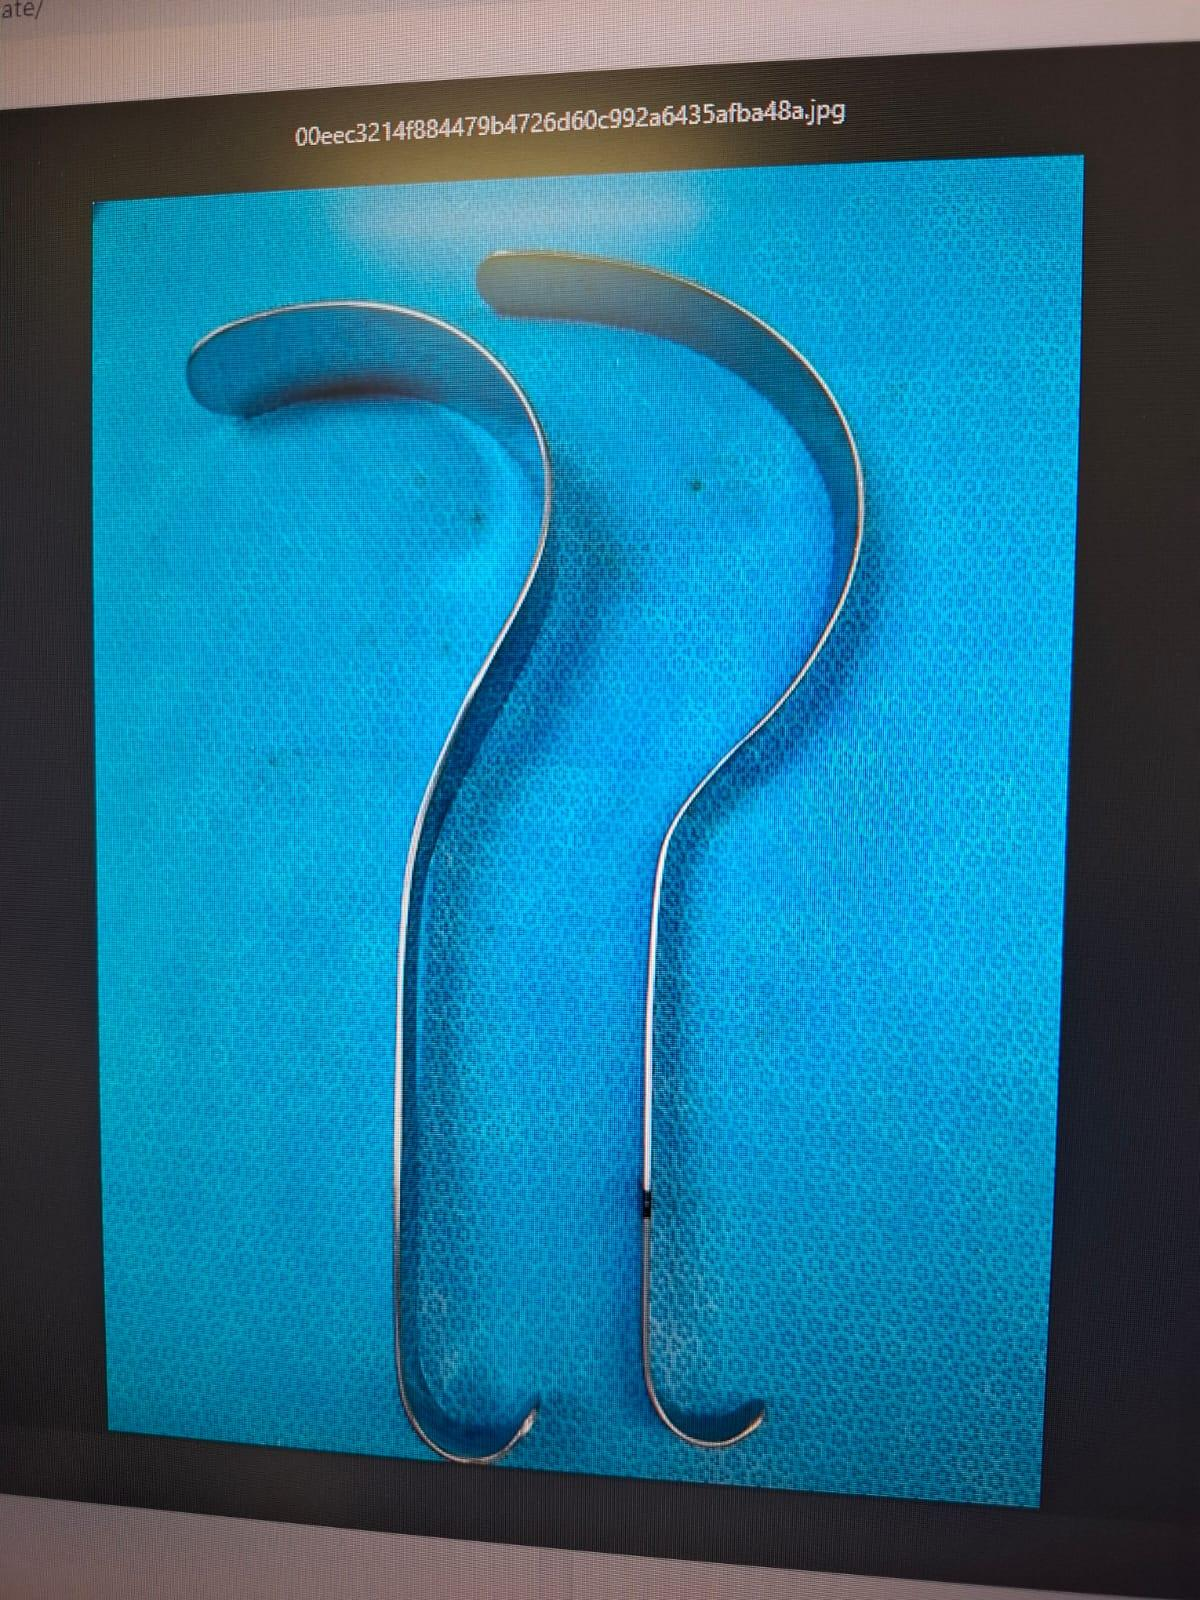Deaver Retractor: (468, 236, 895, 1470), (178, 290, 603, 1483)
